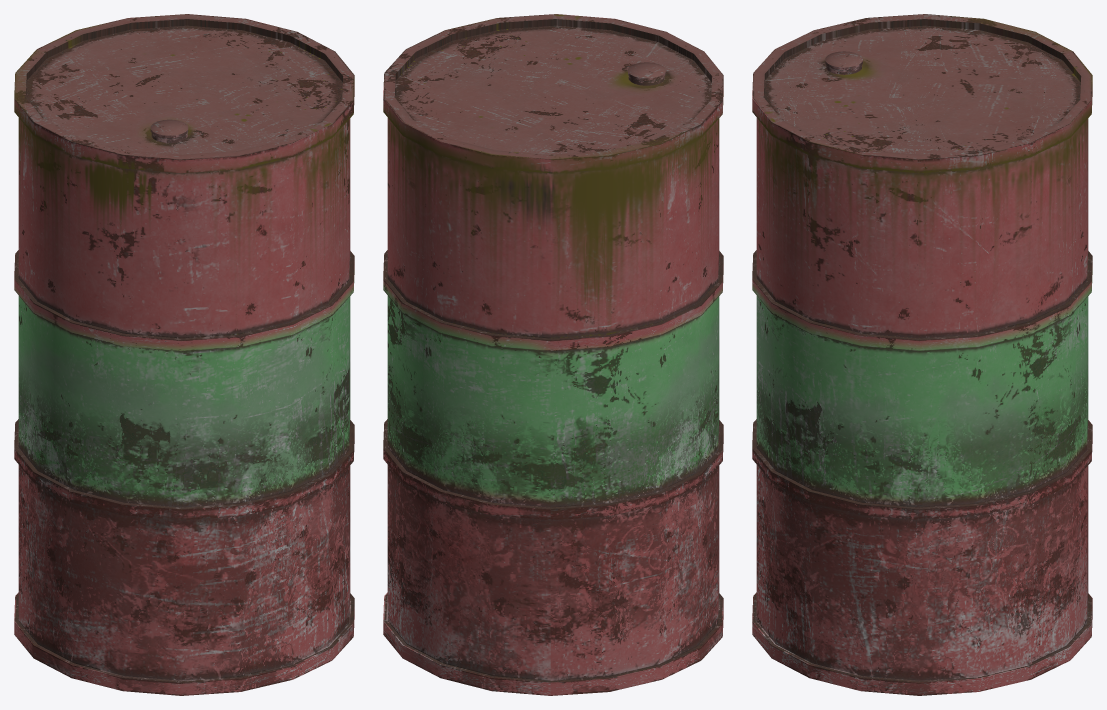
Rendered from Barril.fbx.
3 renders of one model, left to right at view 1: azimuth 30°, elevation 25°; view 2: azimuth 150°, elevation 25°; view 3: azimuth 270°, elevation 25°, orthographic.
Visible parts, largest first — view 1: Object_2; view 2: Object_2; view 3: Object_2.
Boxes of the visible parts, left/top/right/bottom form: Object_2: left=14, top=14, right=354, bottom=695; Object_2: left=383, top=14, right=723, bottom=695; Object_2: left=752, top=14, right=1092, bottom=695.
Bounding box in the file's own units: 495 × 853 × 489.
Materials: 1 (1 with a texture image).
